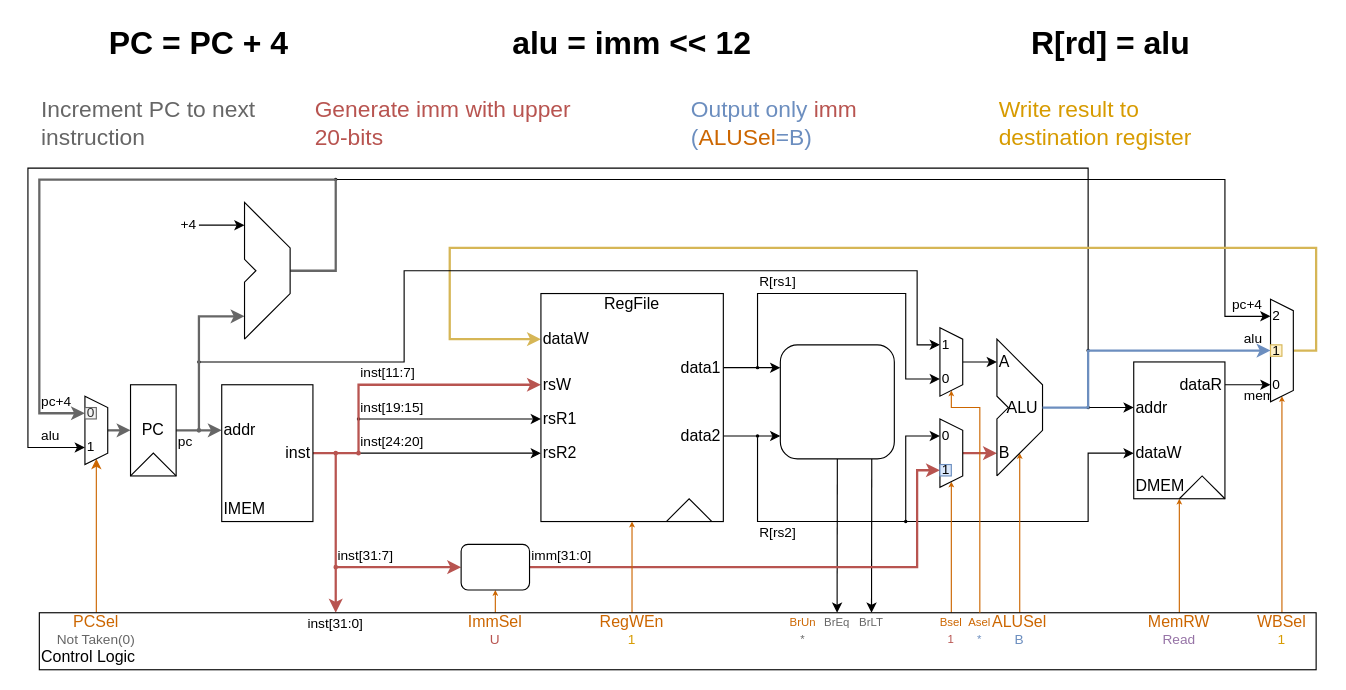
This 1346x690 diagram has some shape labels left out. Each missing label, with the centre of its shape:
"Add" belongs at [267,293].
"Branch Comp." belongs at [836,401].
"Imm. Gen" belongs at [495,566].
